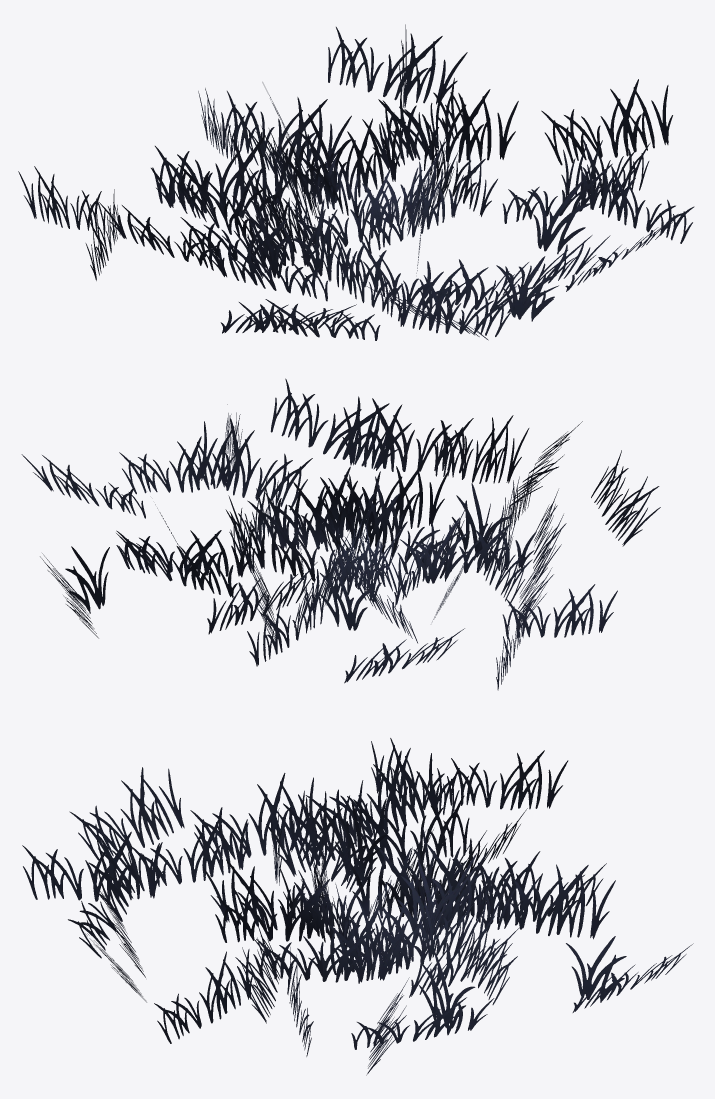
3 views of the same model, one above another, from view 1: azimuth 30°, elevation 25°; view 2: azimuth 150°, elevation 25°; view 3: azimuth 270°, elevation 25° (orthographic). The views are drawn at different scales.
Visible parts, largest first — view 1: SM_WT_GrassShort_06_LOD0; view 2: SM_WT_GrassShort_06_LOD0; view 3: SM_WT_GrassShort_06_LOD0.
Boxes of the visible parts, bbox=[...] form: SM_WT_GrassShort_06_LOD0: bbox=[18, 24, 694, 340]; SM_WT_GrassShort_06_LOD0: bbox=[21, 378, 660, 690]; SM_WT_GrassShort_06_LOD0: bbox=[22, 738, 693, 1075].
Bounding box in the file's own units: 2.01 × 0.3167 × 1.93.
1 material, 1 textured.
